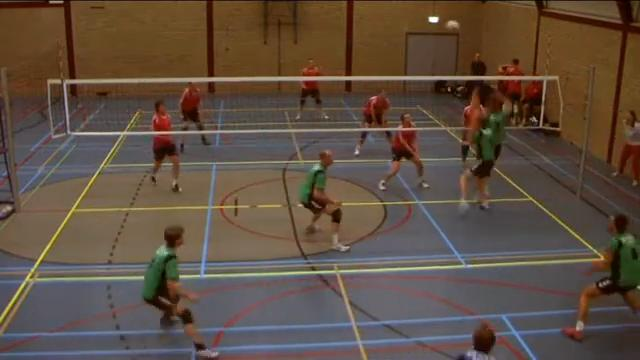Player: (142, 226, 218, 358), (563, 214, 639, 340), (299, 150, 349, 251), (379, 113, 428, 190), (459, 118, 495, 211), (151, 100, 181, 191), (461, 88, 485, 166), (487, 91, 511, 160), (456, 324, 495, 359), (295, 80, 328, 119), (180, 82, 203, 130), (362, 90, 389, 127)
ball: (445, 19, 459, 31)
